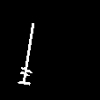treble_crochet: (18, 23, 33, 84)
